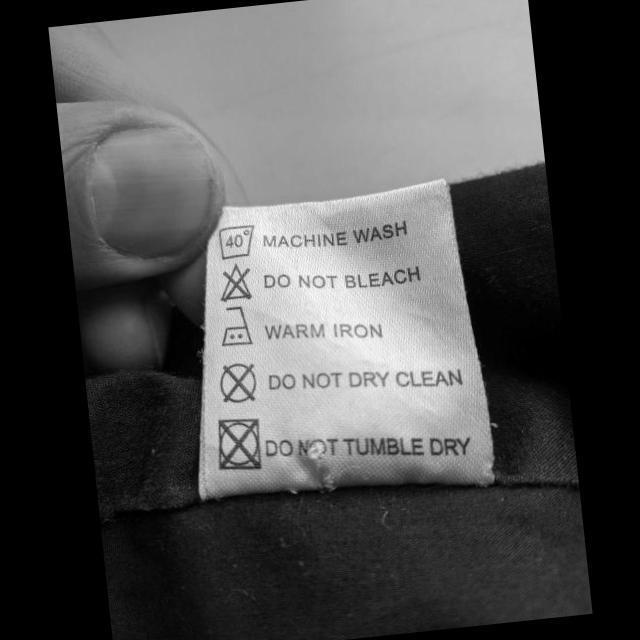40C: (213, 219, 259, 262)
DN_bleach: (216, 259, 255, 304)
DN_dry_clean: (214, 358, 262, 408)
DN_tumble_dry: (211, 412, 266, 476)
iron_medium: (216, 303, 256, 351)
